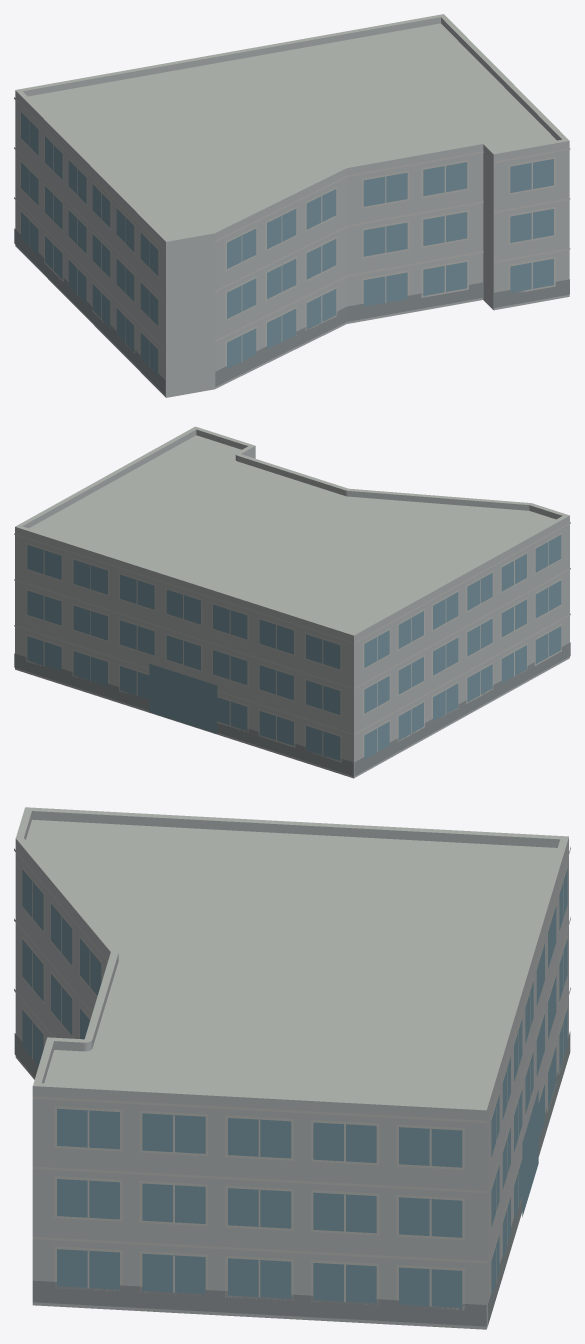
The model's file is public-cc031211-2da3-4da5-82f9-51831b935b02.glb.
3 renders of one model, top to bottom at view 1: azimuth 30°, elevation 25°; view 2: azimuth 150°, elevation 25°; view 3: azimuth 270°, elevation 25°, orthographic. The views are drawn at different scales.
Visible parts, largest first — view 1: public-cc031211-2da3-4da5-82f9-51831b935b02; view 2: public-cc031211-2da3-4da5-82f9-51831b935b02; view 3: public-cc031211-2da3-4da5-82f9-51831b935b02.
Boxes of the visible parts, x1,y1,x2,y2 form: public-cc031211-2da3-4da5-82f9-51831b935b02: (14,14,570,397); public-cc031211-2da3-4da5-82f9-51831b935b02: (14,426,570,778); public-cc031211-2da3-4da5-82f9-51831b935b02: (14,807,570,1329).
Bounding box in the file's own units: 27.27 × 9.15 × 21.06.
